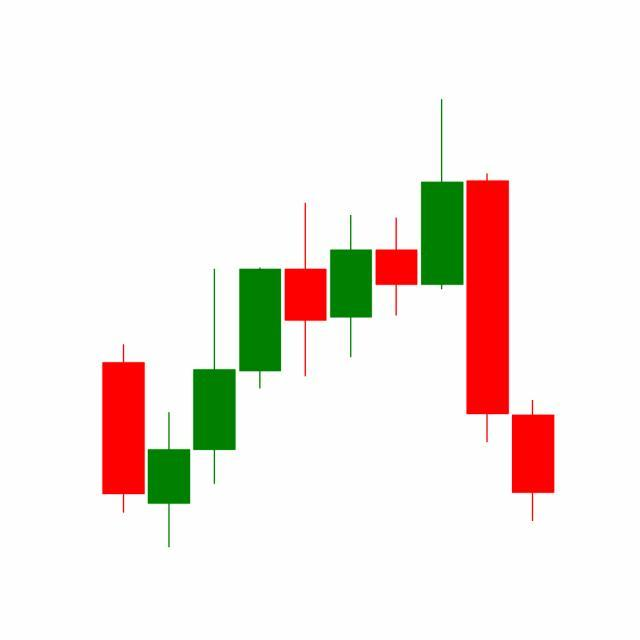Hikkake Pattern: (283, 99, 512, 448)
